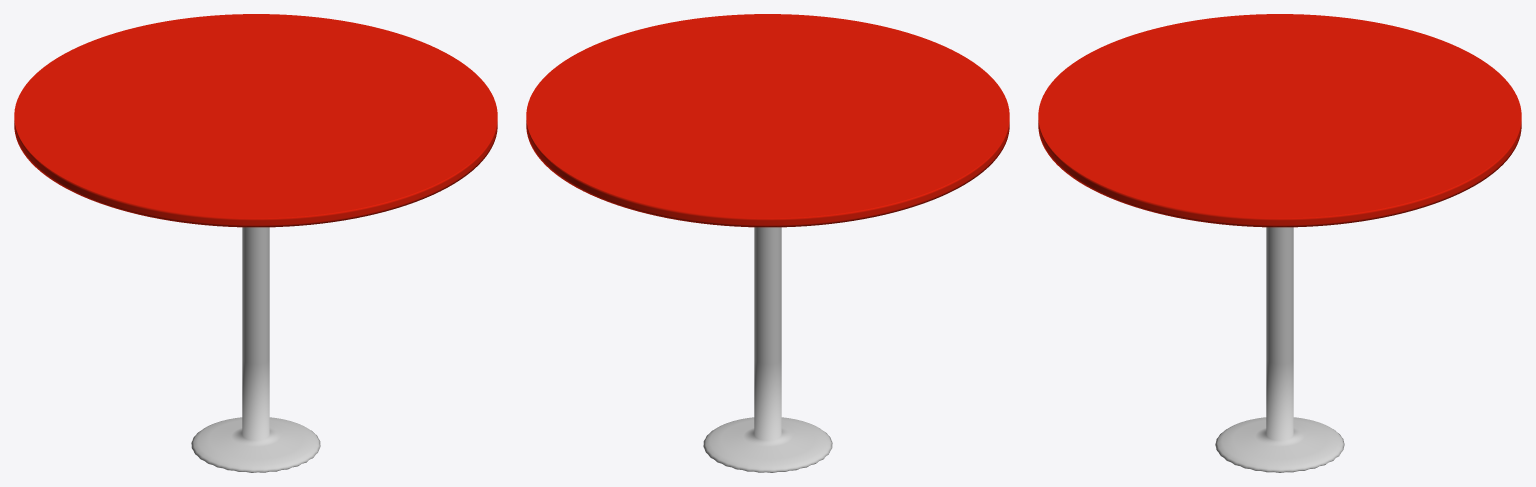
File: CircleTable.fbx
3 views of the same model, side by side, from view 1: azimuth 30°, elevation 25°; view 2: azimuth 150°, elevation 25°; view 3: azimuth 270°, elevation 25° (orthographic).
Visible parts, largest first — view 1: Окружность; view 2: Окружность; view 3: Окружность.
Boxes of the visible parts, left/top/right/bottom form: Окружность: left=14, top=14, right=497, bottom=472; Окружность: left=526, top=14, right=1009, bottom=472; Окружность: left=1038, top=14, right=1521, bottom=472.
Size of the model in its own units: 641 by 487 by 641.
